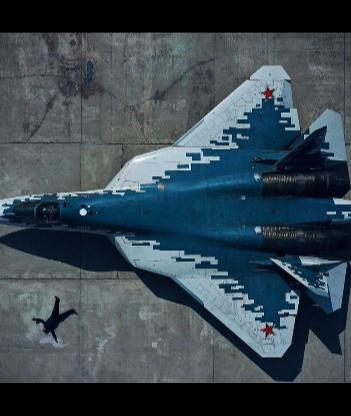SR71: (0, 64, 350, 359)
